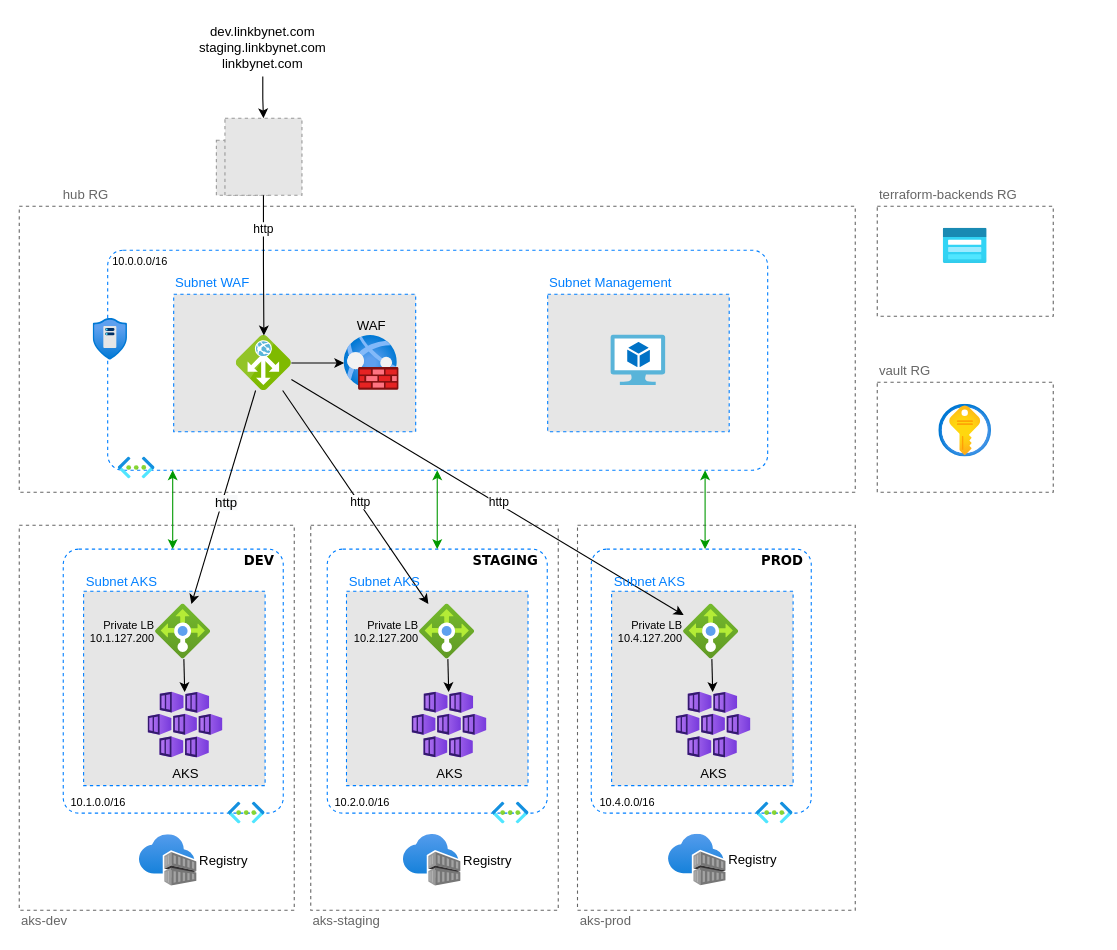
This 1117x950 diagram has some shape labels left out. Grey dashed boxes stand in for pictures. The centre of each missing label's shape, as x and y in pixels:
AppGW: (263,362)
bastion: (637,359)
DDOS Protection: (110,339)
Key Vault: (964,430)
terraform1612822914: (965,245)
